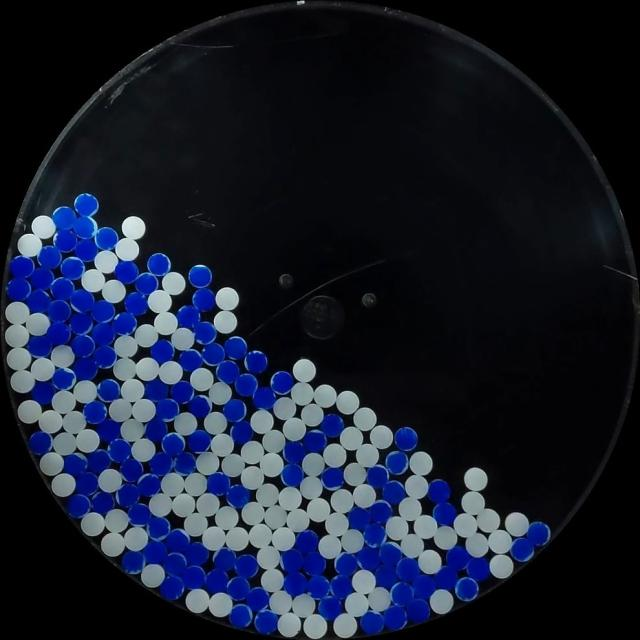pmmma-azul: (279, 547, 306, 573), (46, 320, 72, 346), (159, 575, 185, 601), (164, 528, 190, 554), (50, 276, 76, 301), (254, 609, 279, 635), (182, 541, 208, 566), (180, 564, 205, 590), (37, 244, 62, 270), (27, 288, 52, 314), (143, 540, 168, 566), (127, 502, 152, 527), (381, 479, 406, 504), (119, 457, 144, 482), (66, 493, 91, 518), (116, 482, 141, 507), (382, 605, 407, 630), (87, 449, 112, 474), (306, 574, 331, 599), (7, 276, 32, 301), (228, 603, 253, 628), (433, 564, 458, 589), (96, 418, 121, 443), (466, 556, 490, 582), (9, 255, 35, 279), (74, 470, 98, 496), (395, 556, 419, 582), (295, 529, 319, 555), (302, 550, 326, 576), (73, 356, 98, 380), (71, 334, 96, 358), (92, 322, 116, 347), (193, 321, 218, 345), (144, 417, 168, 442), (108, 438, 132, 463), (90, 490, 115, 514), (234, 554, 259, 578), (30, 266, 54, 291), (329, 574, 353, 599), (114, 260, 139, 284), (216, 359, 240, 384), (356, 545, 381, 569), (368, 499, 392, 524), (137, 472, 161, 497), (83, 400, 108, 424), (74, 193, 99, 217), (192, 288, 217, 312), (526, 521, 550, 546), (74, 238, 99, 262), (246, 587, 270, 612), (378, 541, 402, 566), (320, 412, 344, 437), (226, 576, 251, 600), (389, 581, 414, 605), (445, 546, 470, 570), (406, 598, 430, 623), (360, 610, 384, 635), (70, 288, 94, 313), (510, 537, 534, 562), (432, 502, 457, 526), (412, 574, 436, 599), (394, 426, 418, 451), (283, 570, 307, 595), (204, 568, 228, 593), (226, 484, 250, 509), (52, 206, 77, 230), (211, 547, 236, 571), (62, 453, 88, 476), (47, 299, 71, 323), (270, 370, 294, 394), (170, 380, 194, 404), (113, 311, 137, 335), (161, 432, 185, 456), (252, 386, 276, 410), (347, 506, 371, 530), (93, 345, 117, 369), (31, 382, 55, 406), (28, 430, 52, 454), (385, 450, 409, 474), (188, 264, 212, 288), (334, 552, 358, 576), (148, 252, 172, 276), (202, 342, 226, 366), (72, 215, 96, 239), (206, 472, 230, 496), (124, 291, 148, 315), (69, 311, 93, 335), (427, 478, 451, 502), (53, 228, 77, 252), (318, 596, 342, 620), (150, 452, 174, 476), (144, 378, 169, 401), (147, 515, 170, 540), (60, 256, 85, 279), (163, 553, 188, 576), (230, 420, 253, 444), (155, 398, 179, 421), (95, 227, 119, 250), (234, 373, 258, 396), (135, 272, 158, 296), (52, 367, 76, 390), (173, 452, 197, 475), (321, 466, 344, 490), (224, 336, 248, 359), (92, 300, 115, 324), (177, 304, 200, 328), (455, 576, 478, 600), (28, 334, 52, 357), (97, 378, 120, 402), (363, 523, 386, 547), (374, 564, 397, 588), (281, 462, 303, 487), (151, 339, 174, 362), (188, 395, 211, 418), (304, 429, 327, 452), (223, 399, 246, 422), (245, 350, 268, 373), (179, 349, 203, 371), (122, 550, 144, 574), (366, 464, 388, 488), (188, 430, 211, 452), (283, 440, 305, 463)
